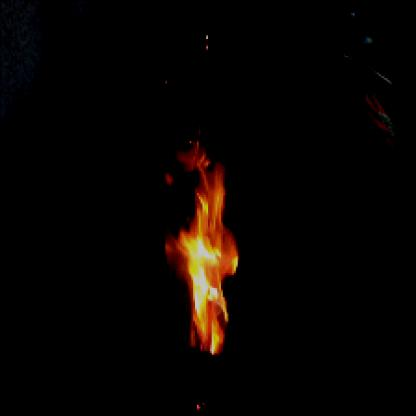Fire: (162, 132, 247, 358)
